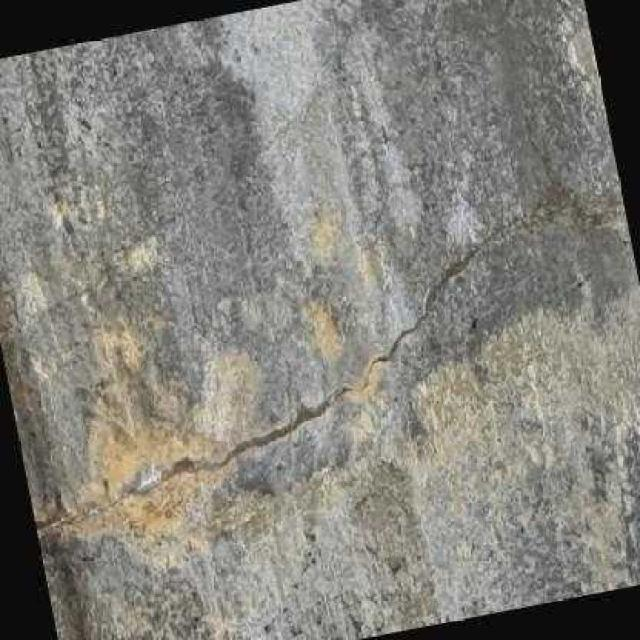D00: (30, 191, 626, 545)
